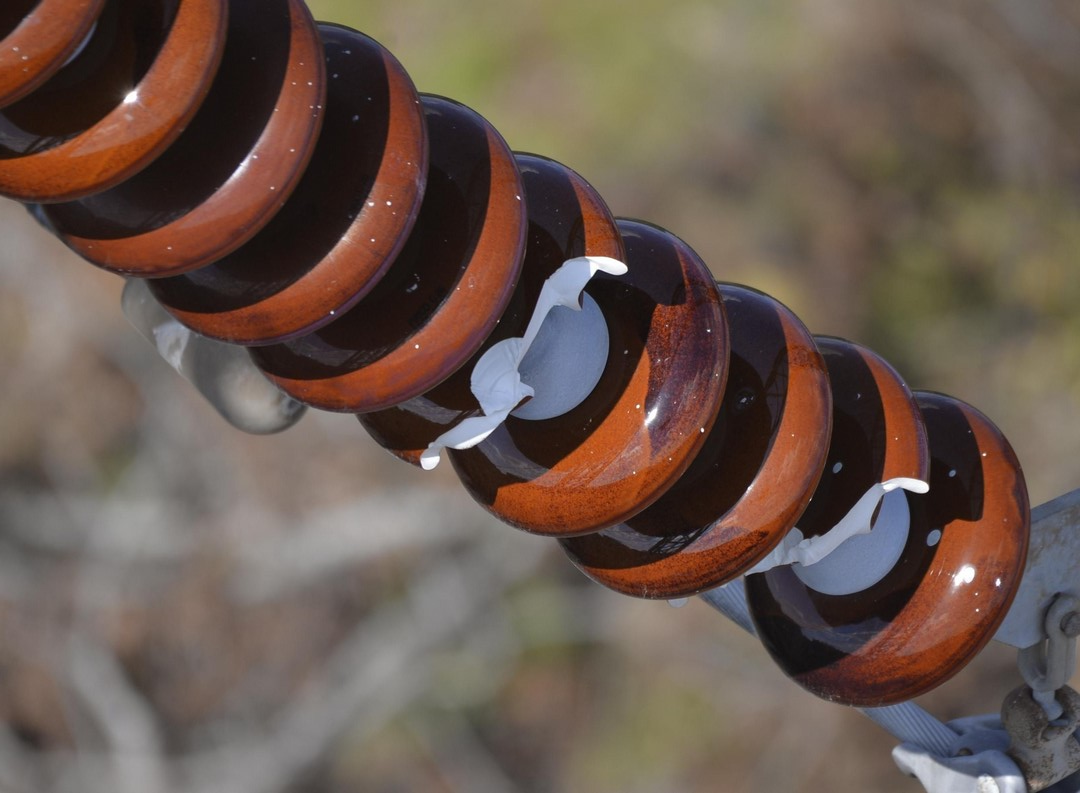insulator breakage: (349, 145, 648, 476), (686, 340, 945, 643)
